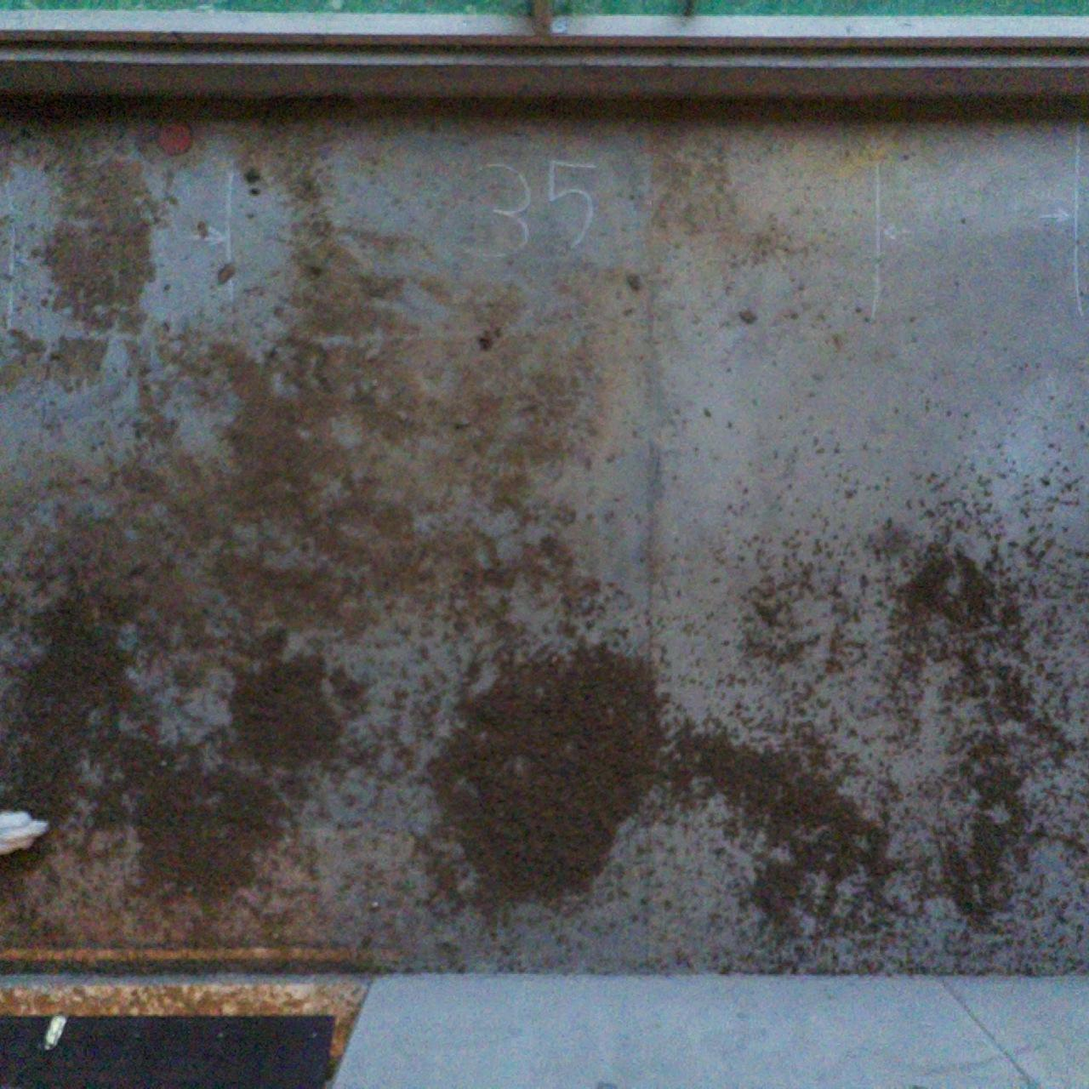chicken: (0, 804, 54, 858)
